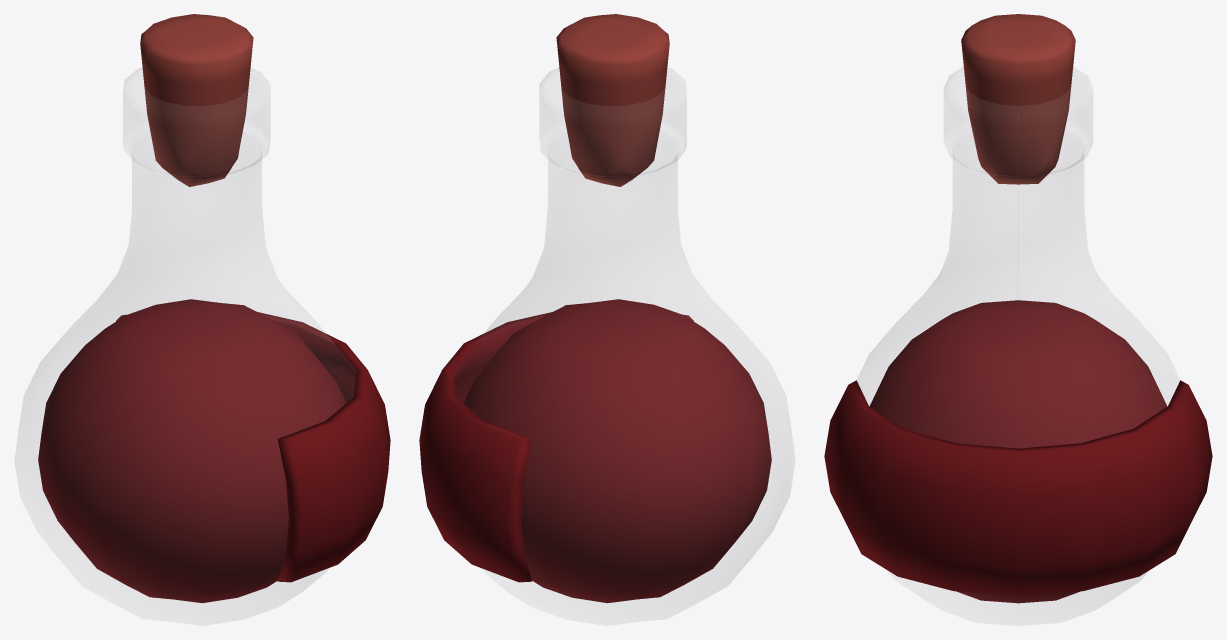
File: PickupPotionFortitude.dae
3 views of the same model, side by side, from view 1: azimuth 30°, elevation 25°; view 2: azimuth 150°, elevation 25°; view 3: azimuth 270°, elevation 25° (orthographic).
Parts seen in each view (by area): view 1: PotionFortitude; view 2: PotionFortitude; view 3: PotionFortitude.
Boxes of the visible parts, x1,y1,x2,y2 form: PotionFortitude: (15,14,390,625); PotionFortitude: (419,14,794,625); PotionFortitude: (824,14,1212,625).
Size of the model in its own units: 0.2712 by 0.2768 by 0.4415.
